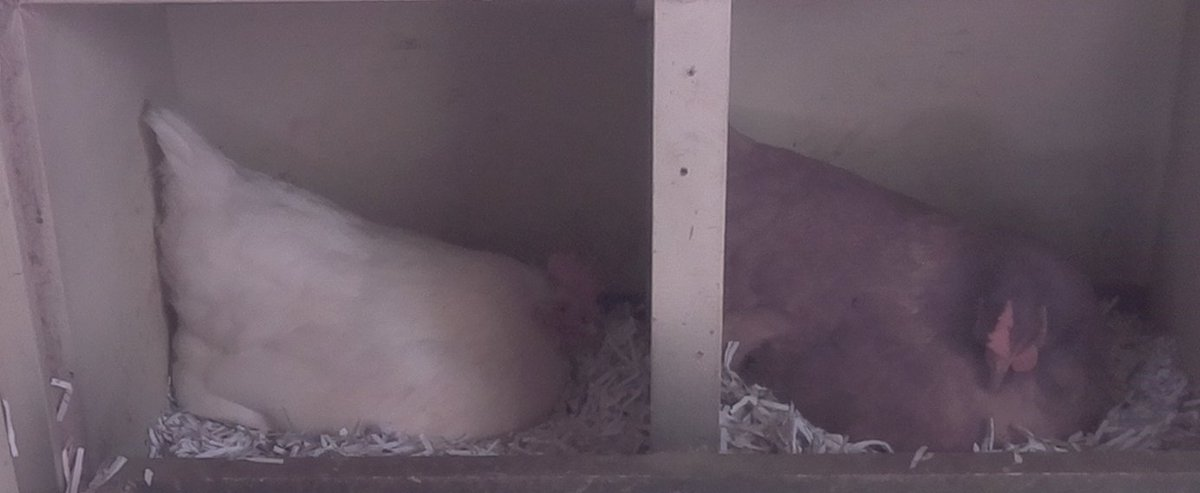hen: (142, 157, 609, 448), (724, 147, 1130, 454)
